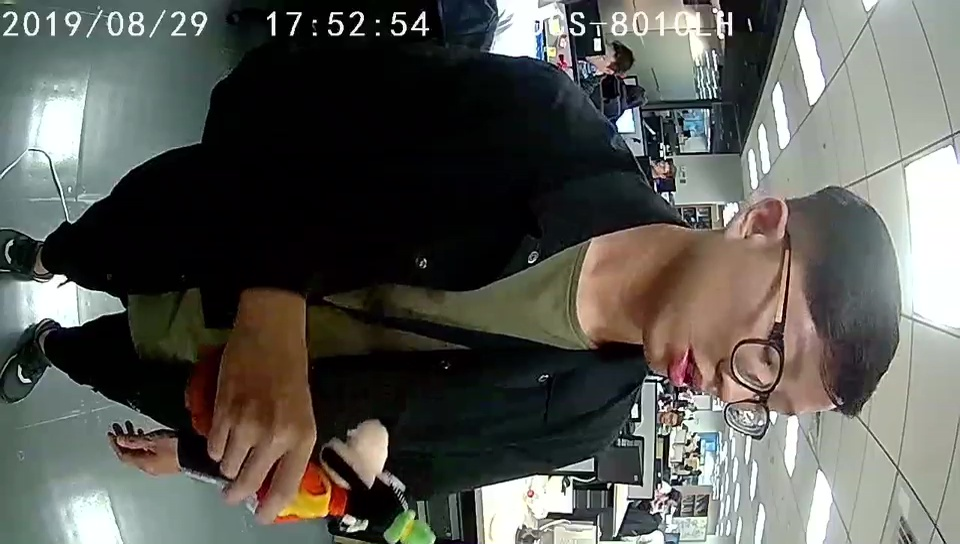goofy: (194, 366, 436, 544)
